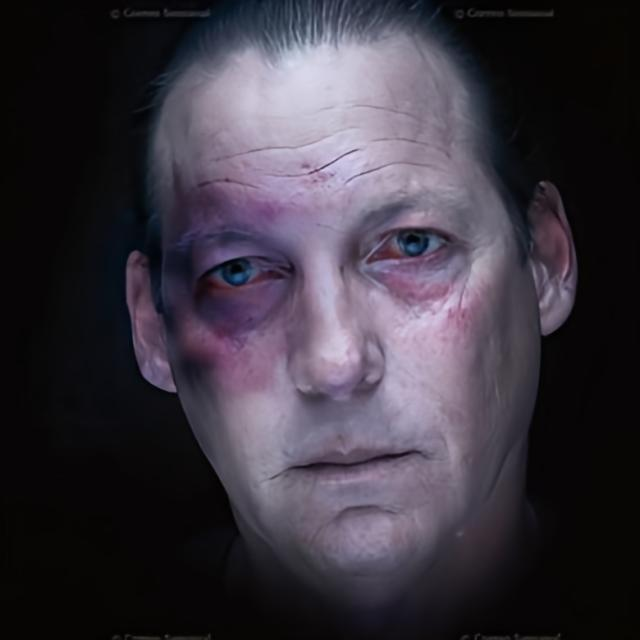sad: (159, 66, 538, 576)
